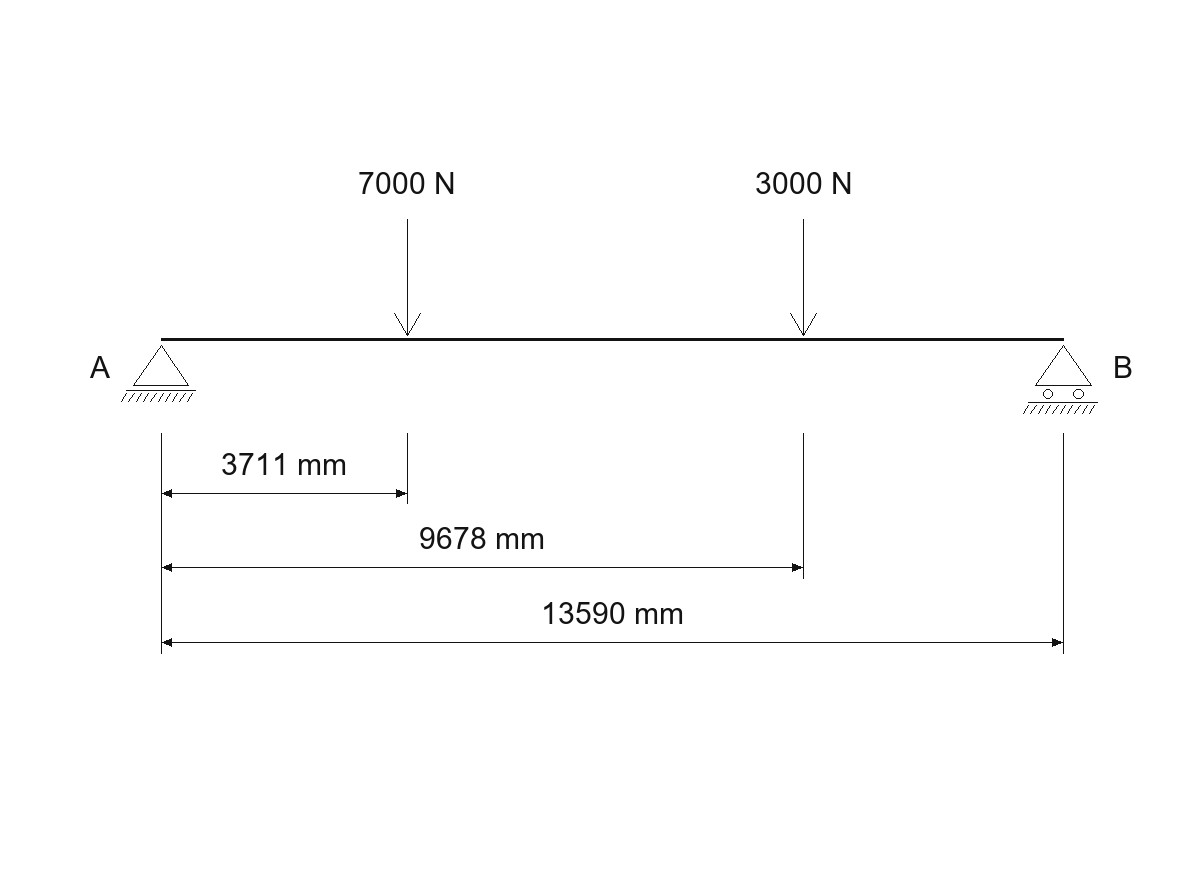pin_support: (121, 345, 196, 402)
point_load: (394, 219, 421, 336), (790, 219, 817, 336)
roller_support: (1023, 345, 1098, 414)
